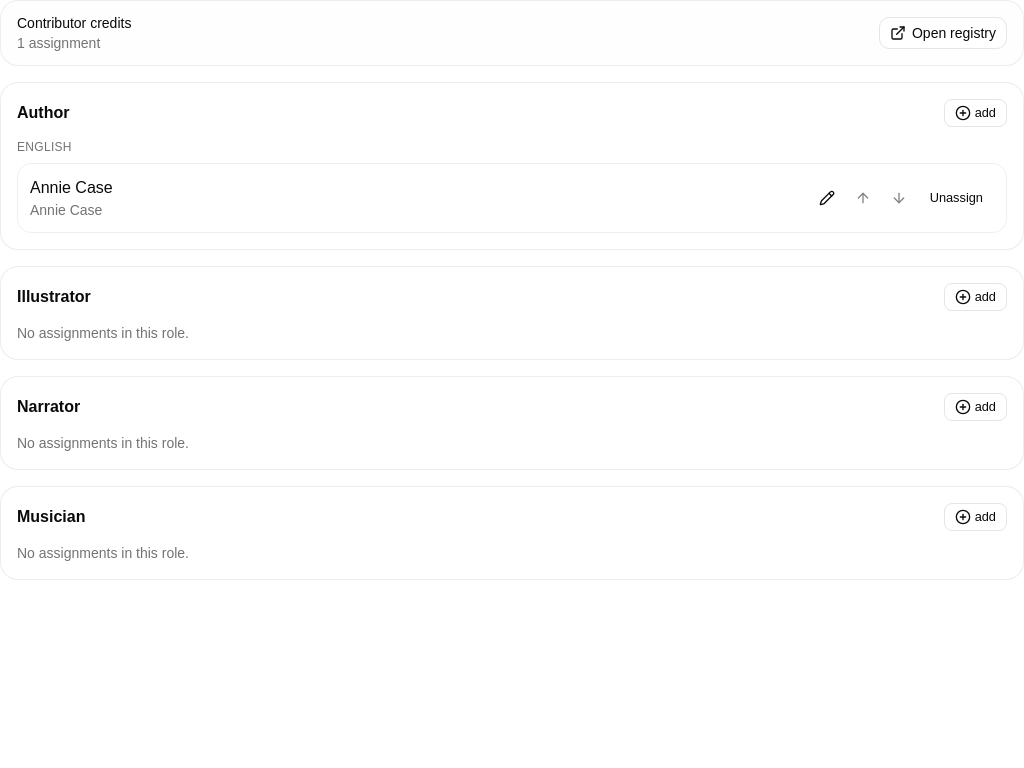
Test: ContentContributorPanel › only offers roles from the contributor profile snapshot
Click the button named "edit contributor assignment".
click(827, 198)  # box [811,182,843,214]
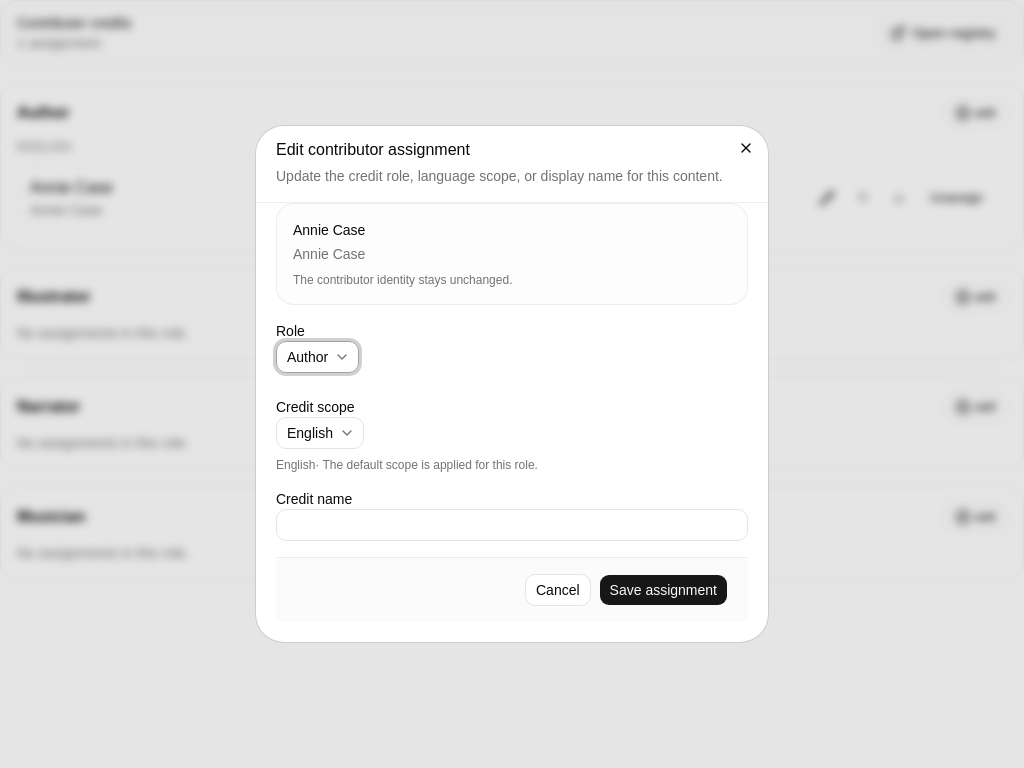
Click the dropdown named "role".
click(318, 357)  # box [276,341,359,373]
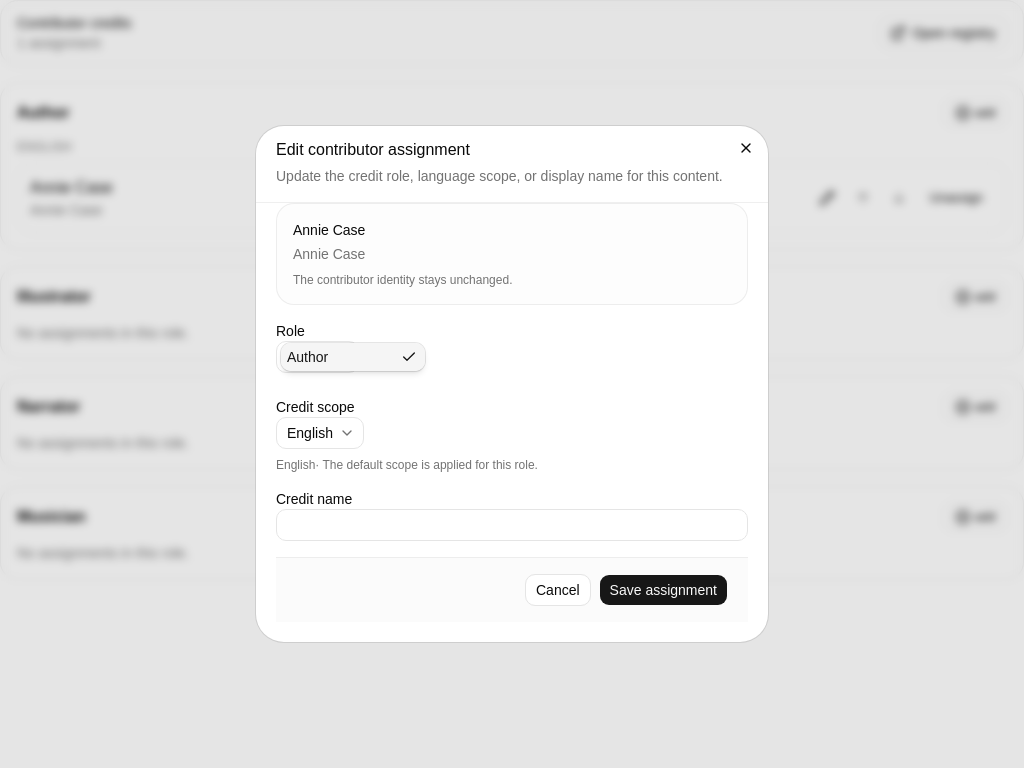
Check: the option "Author" is shown, box [281,343,425,371]
